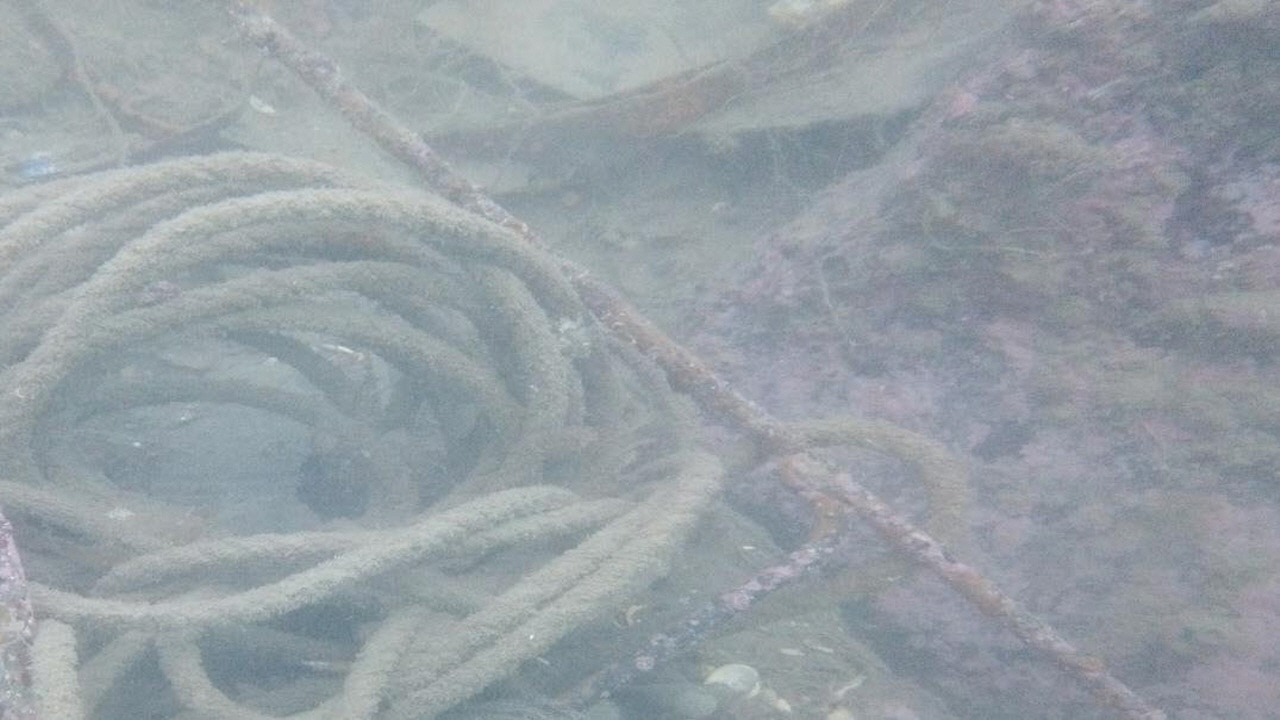bundle of ropes: (0, 145, 973, 720)
rope: (223, 6, 1178, 720)
